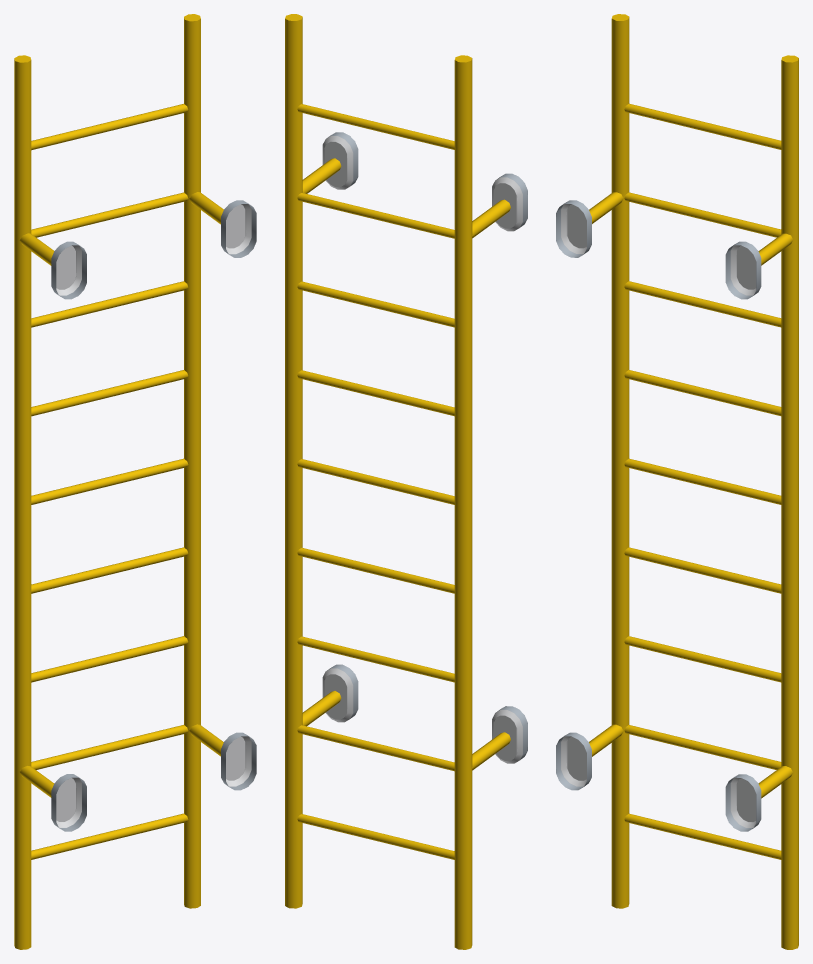
Rendered from Yellow_Ladder_01.FBX.
The picture shows the model from 3 angles, left to right: view 1: azimuth 30°, elevation 25°; view 2: azimuth 150°, elevation 25°; view 3: azimuth 330°, elevation 25°; orthographic projection.
Parts seen in each view (by area): view 1: Yellow_Ladder_01; view 2: Yellow_Ladder_01; view 3: Yellow_Ladder_01.
Part boxes in pixels (x1=…): Yellow_Ladder_01: x1=14, y1=14, x2=256, y2=949; Yellow_Ladder_01: x1=285, y1=14, x2=527, y2=949; Yellow_Ladder_01: x1=556, y1=14, x2=798, y2=949.
Bounding box in the file's own units: 1.18 × 5 × 0.5455.
